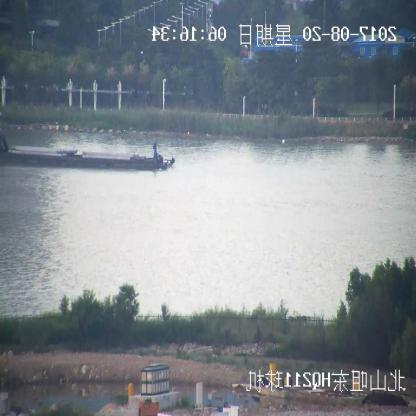Bulk Carrier: (0, 132, 174, 172)
